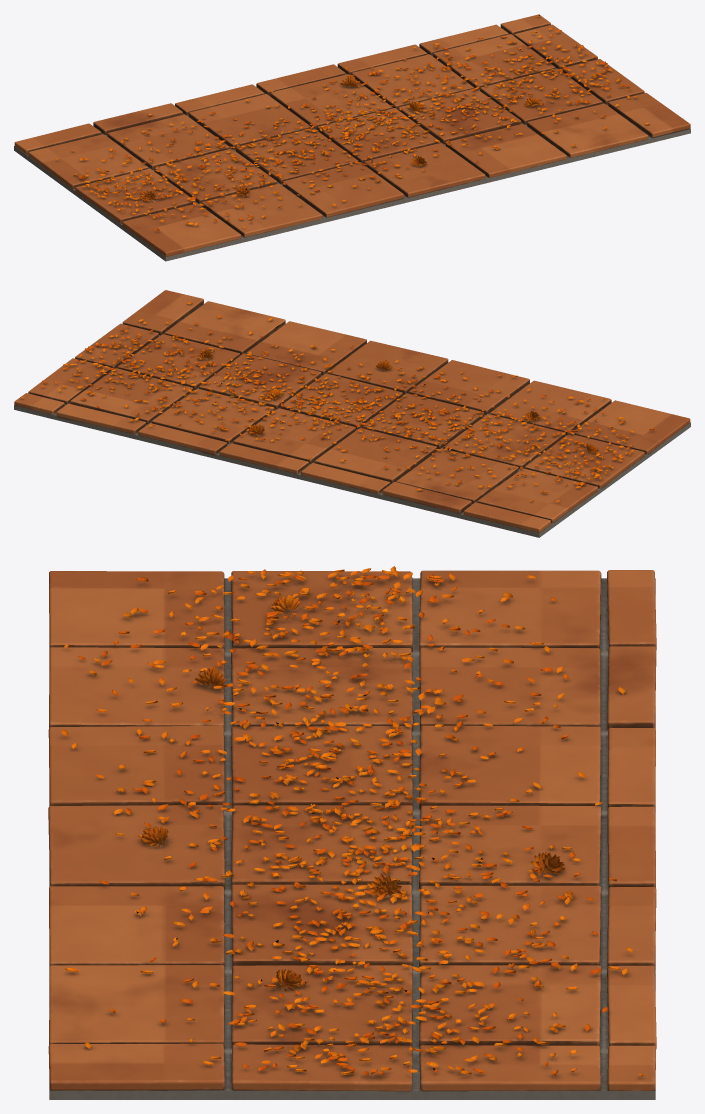
The model's file is w6_petal_tile_path.glb.
3 renders of one model, top to bottom at view 1: azimuth 30°, elevation 25°; view 2: azimuth 150°, elevation 25°; view 3: azimuth 270°, elevation 25°, orthographic. The views are drawn at different scales.
Visible parts, largest first — view 1: w6_petal_tile_path; view 2: w6_petal_tile_path; view 3: w6_petal_tile_path.
Boxes of the visible parts, bbox=[...] form: w6_petal_tile_path: bbox=[14, 14, 690, 261]; w6_petal_tile_path: bbox=[14, 290, 690, 537]; w6_petal_tile_path: bbox=[48, 566, 656, 1099].
Bounding box in the file's own units: 2 × 0.0636 × 1.
1 material, 1 textured.
